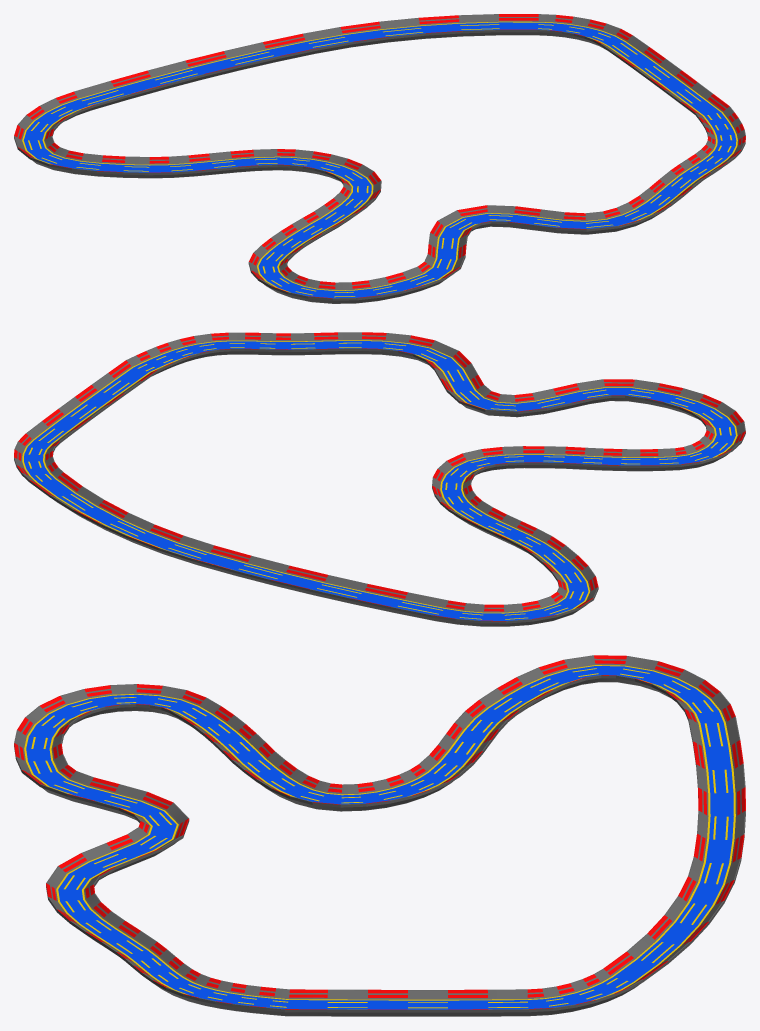
File: racetrack3.FBX
The picture shows the model from 3 angles, top to bottom: view 1: azimuth 30°, elevation 25°; view 2: azimuth 150°, elevation 25°; view 3: azimuth 270°, elevation 25°; orthographic projection. The views are drawn at different scales.
Parts seen in each view (by area): view 1: Loft001; view 2: Loft001; view 3: Loft001.
Part boxes in pixels (x1=…): Loft001: x1=14, y1=14, x2=745, y2=303; Loft001: x1=14, y1=332, x2=745, y2=626; Loft001: x1=14, y1=655, x2=745, y2=1016.
Bounding box in the file's own units: 27619 × 400 × 24082.
